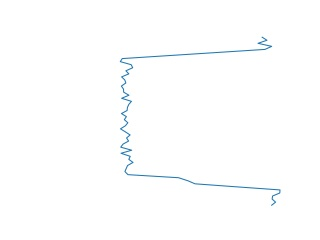distributaryChannelFill: (118, 37, 284, 208)
